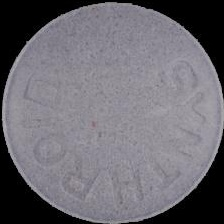68258-5973: (0, 0, 224, 224)
